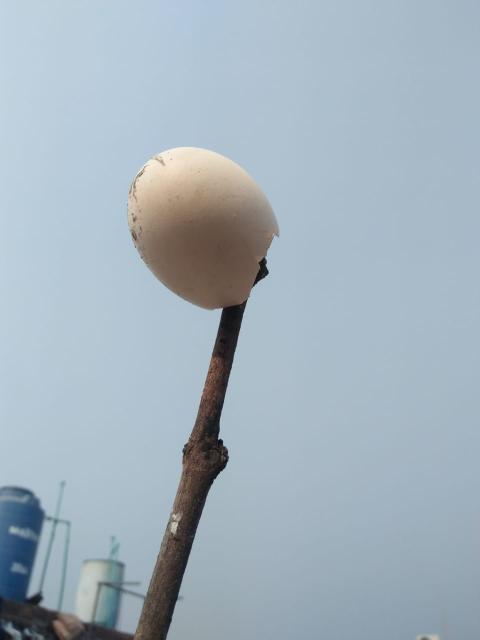Roto: (126, 145, 280, 310)
